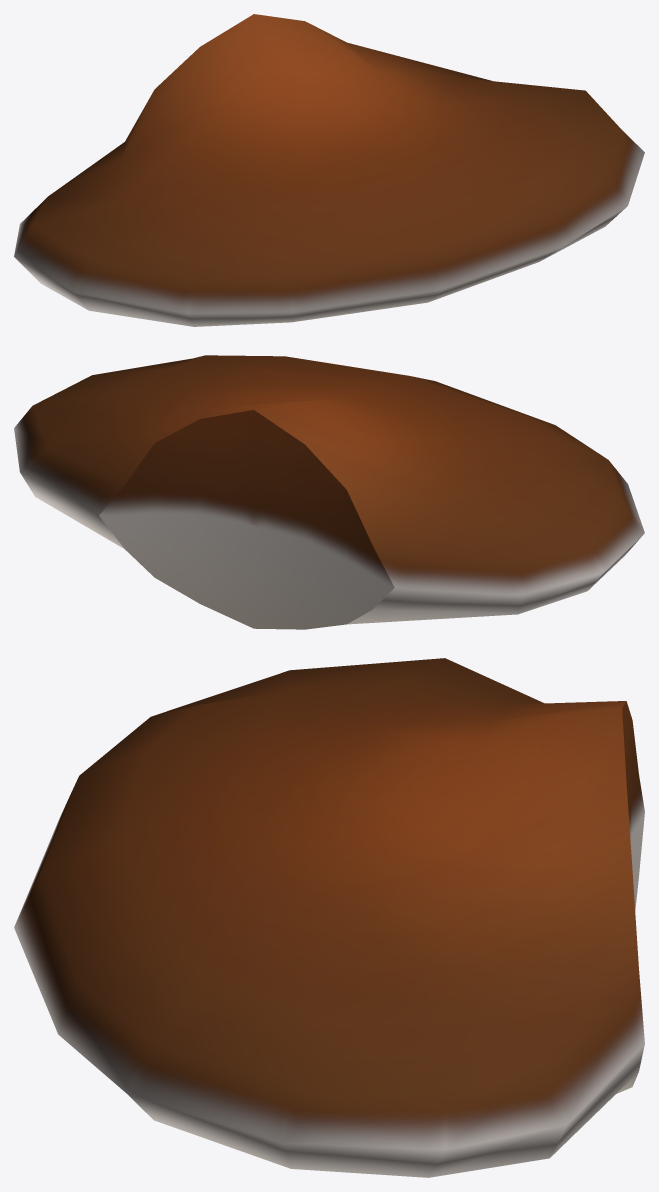
The model's file is Artists_Conk_Big.fbx.
The picture shows the model from 3 angles, top to bottom: view 1: azimuth 30°, elevation 25°; view 2: azimuth 150°, elevation 25°; view 3: azimuth 270°, elevation 25°; orthographic projection. The views are drawn at different scales.
Visible parts, largest first — view 1: Artists_Conk_Big; view 2: Artists_Conk_Big; view 3: Artists_Conk_Big.
Part boxes in pixels (box(x1,y1,x2,y2)): Artists_Conk_Big: box(14, 14, 644, 326); Artists_Conk_Big: box(14, 355, 644, 629); Artists_Conk_Big: box(14, 658, 644, 1177).
Size of the model in its own units: 20.77 by 7.37 by 11.98.
